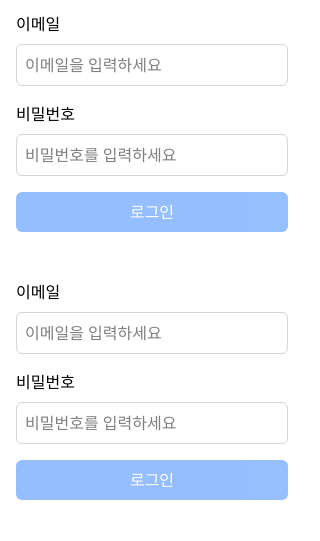
Test: 로그인 폼 테스트 › 유효성 검사 › 비밀번호 6자 미만 입력 시 '비밀번호는 6자 이상이어야 합니다.'라는 에러 메시지가 표시되는지 확인
This screenshot has width=320, height=541.
# 잘못된 비밀번호 입력
Step 1. Type "12345" into the password field labelled "비밀번호" → (152,155), box x1=16 y1=134 x2=288 y2=176
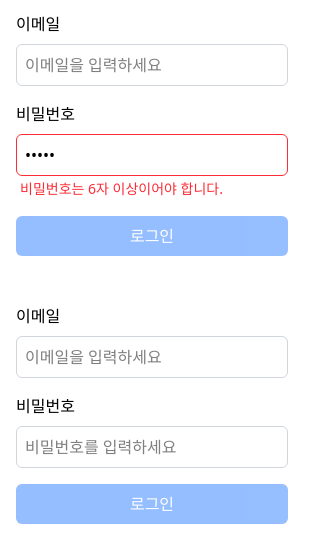
Expected: the text "비밀번호는 6자 이상이어야 합니다." is shown, x1=20 y1=179 x2=223 y2=198
